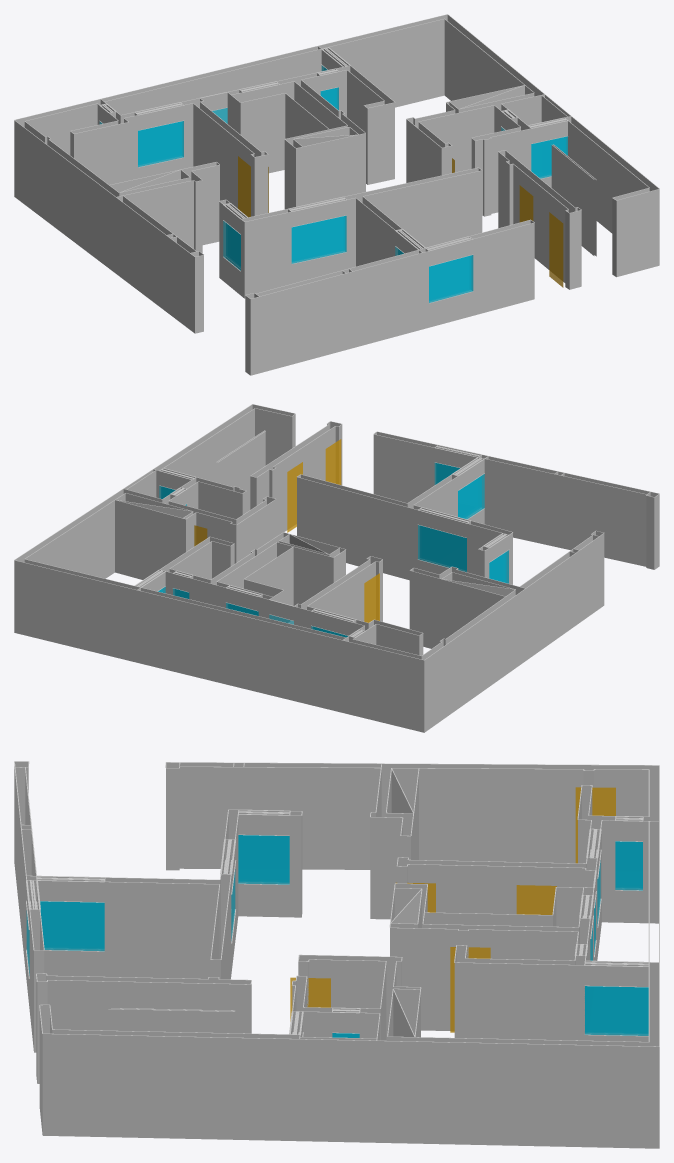
The model's file is 3983bed7-290c-45b2-bcb0-50eb742c3093_no_roof.glb.
3 renders of one model, top to bottom at view 1: azimuth 30°, elevation 25°; view 2: azimuth 150°, elevation 25°; view 3: azimuth 270°, elevation 25°, orthographic. The views are drawn at different scales.
Parts seen in each view (by area): view 1: walls, windows, doors; view 2: walls, windows, doors; view 3: walls, windows, doors.
Part boxes in pixels (bbox=[...]): walls: bbox=[14, 14, 659, 375]; windows: bbox=[99, 65, 567, 302]; doors: bbox=[238, 156, 563, 287]; walls: bbox=[14, 404, 659, 732]; windows: bbox=[158, 462, 508, 637]; doors: bbox=[194, 439, 379, 622]; walls: bbox=[14, 761, 659, 1148]; windows: bbox=[26, 835, 648, 1037]; doors: bbox=[290, 787, 615, 1032].
Size of the model in its own units: 15.01 by 2.5 by 14.34.
